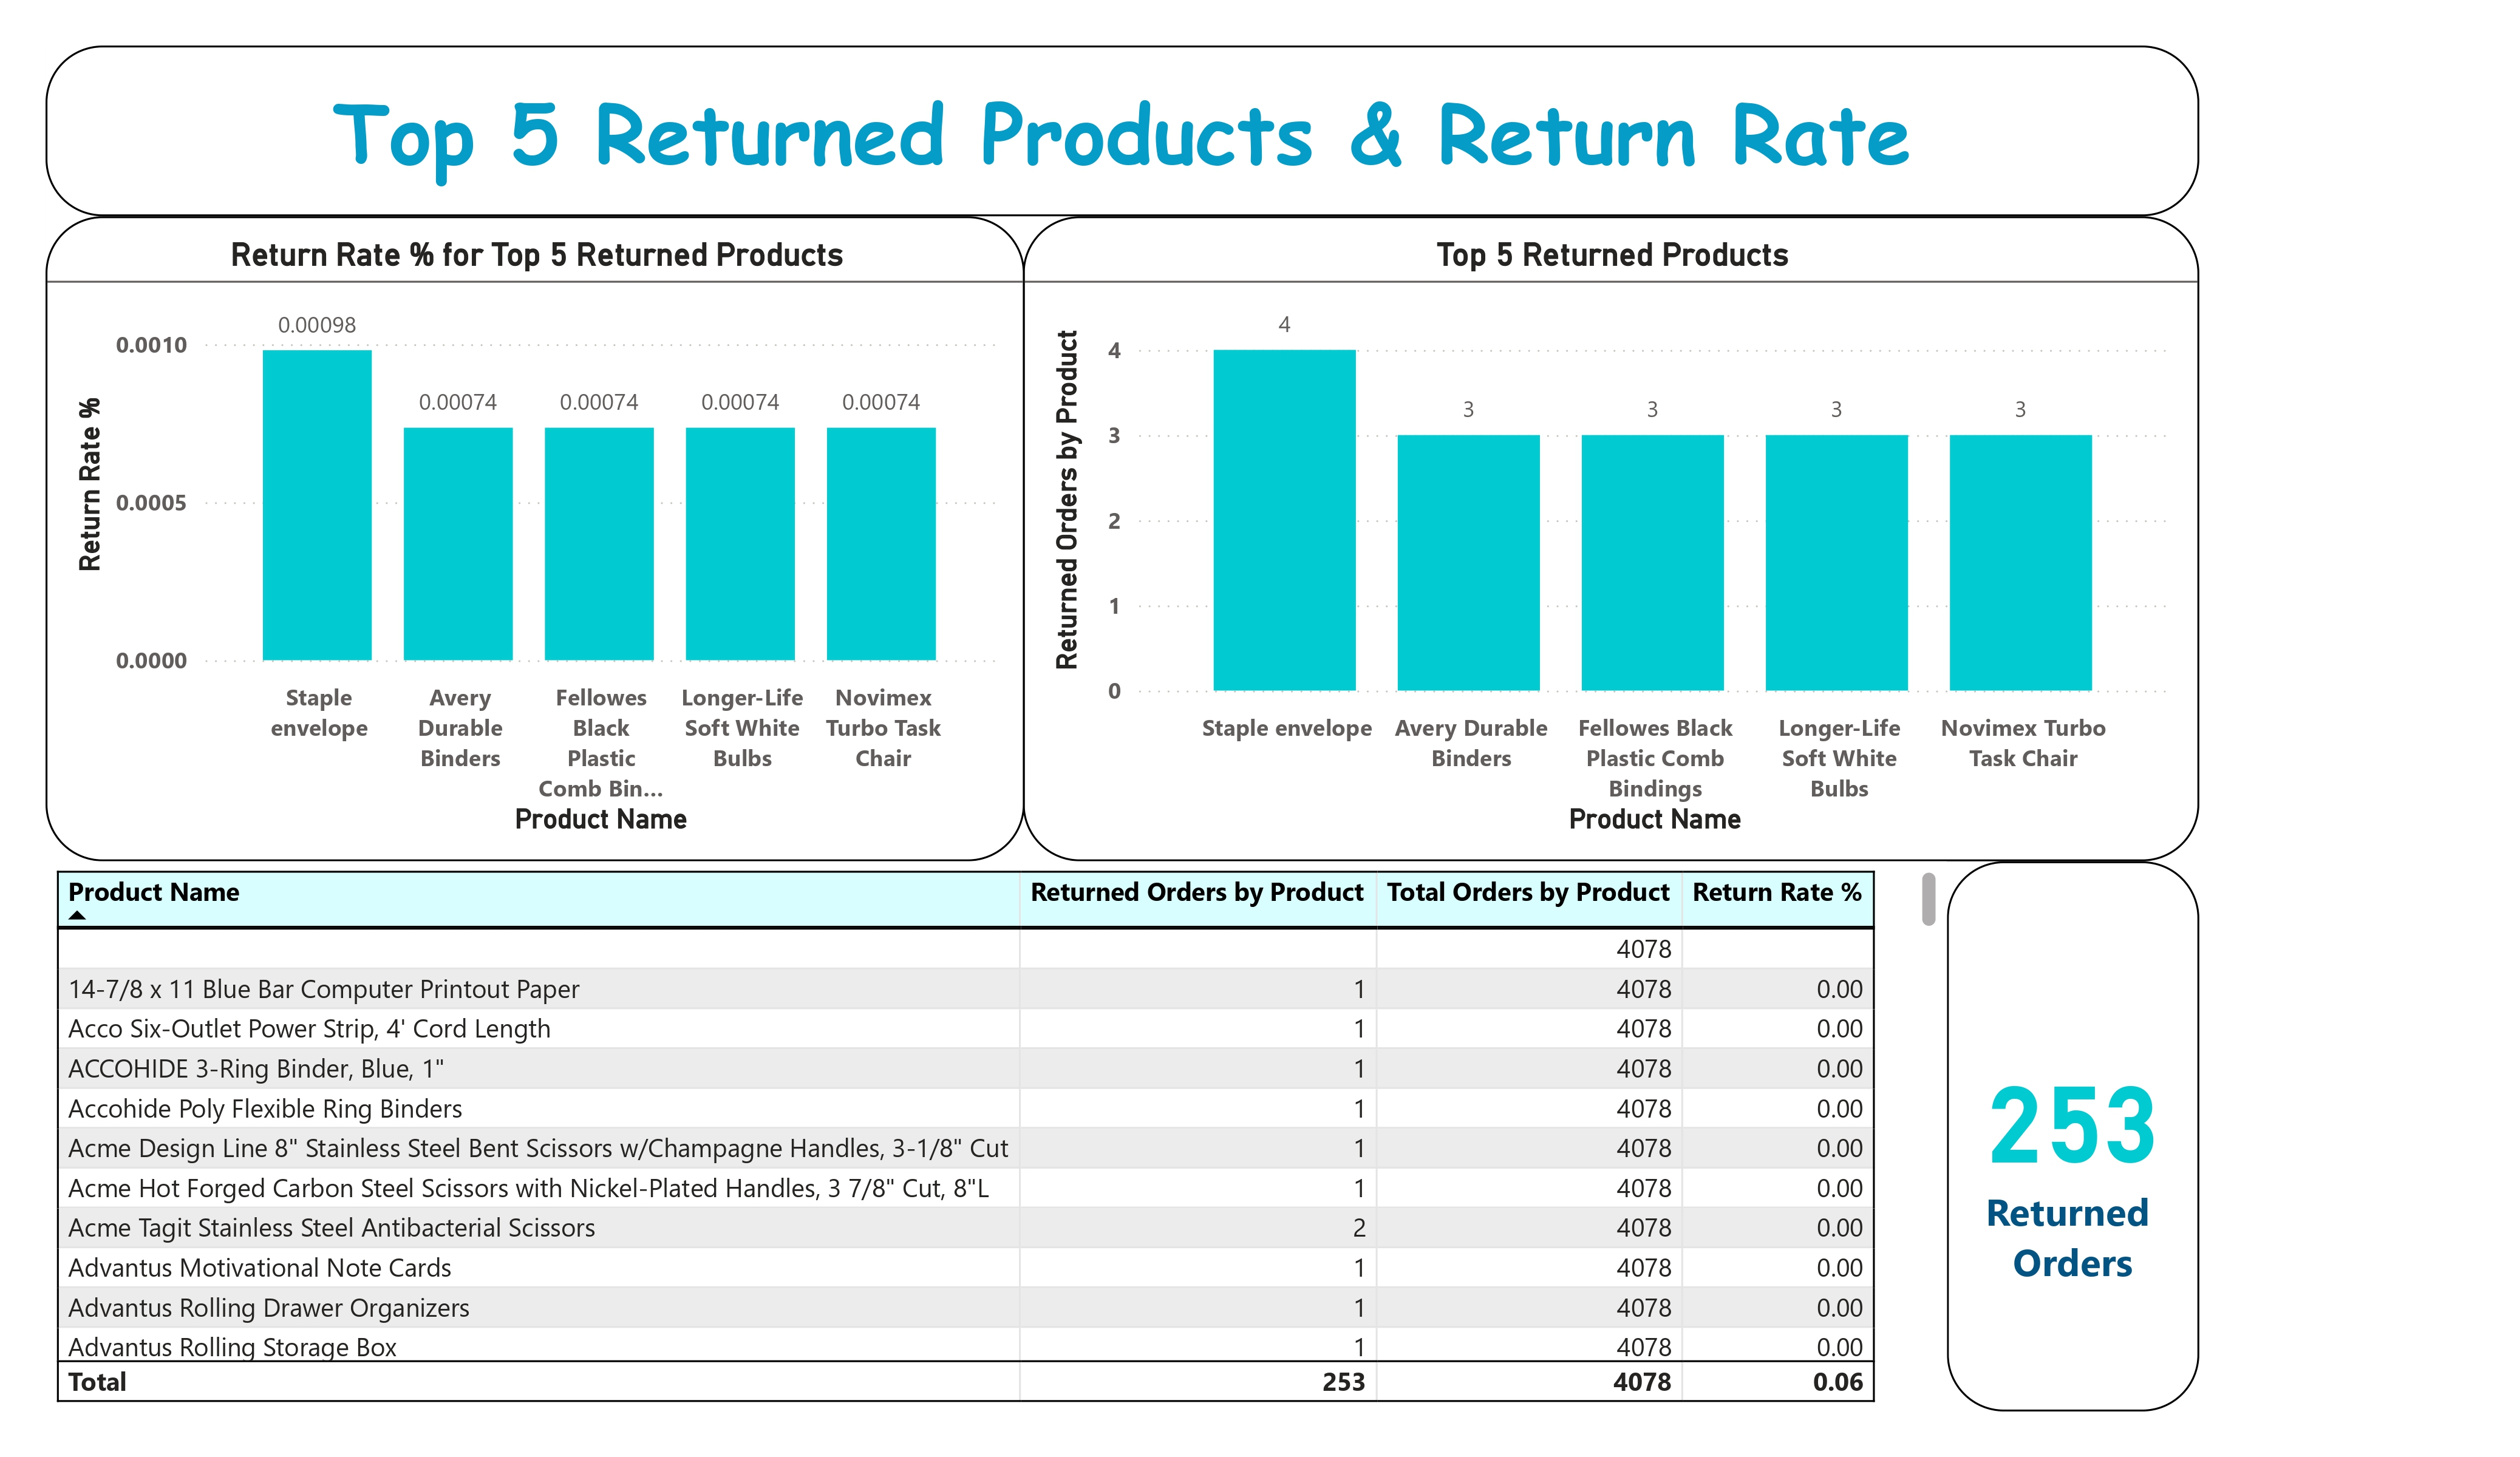

What the dashboard file says about the page in this screenshot:
{"tool":"powerbi","page":{"name":"Top 5 Returned Products & Return Rate","canvas":[1280,720],"ordinal":3},"visuals":[{"type":"card","fields":{"Values":["returns_new.Returned Orders"]},"box":[1001.7,430,133.3,290],"z":0},{"type":"columnChart","title":"Top 5 Returned Products","fields":{"Category":["returns_new.Product Name"],"Y":["returns_new.Returned Orders by Product"]},"box":[515,90,620,340],"z":1000},{"type":"clusteredColumnChart","title":"Return Rate % for Top 5 Returned Products","fields":{"Y":["returns_new.Return Rate %"],"Category":["returns_new.Product Name"]},"box":[0,90,515.7,340],"z":2000},{"type":"tableEx","fields":{"Values":["returns_new.Product Name","returns_new.Returned Orders by Product","returns_new.Total Orders by Product","returns_new.Return Rate %"]},"box":[0,430,1001.7,290],"z":3000},{"type":"textbox","box":[0,0,1135,90],"z":4000}]}

Visuals, with their boxes on the page's 1280x720 design canvas (x1, y1, x2, y2). These are canvas units, not pixel positions in the 2520x1457 screenshot, which may show the page scaled, cropped or inside an application window:
card - returns_new.Returned Orders: 1002, 430, 1135, 720
"Top 5 Returned Products" columnChart: 515, 90, 1135, 430
"Return Rate % for Top 5 Returned Products" clusteredColumnChart: 0, 90, 516, 430
tableEx - returns_new.Product Name x returns_new.Returned Orders by Product: 0, 430, 1002, 720
textbox: 0, 0, 1135, 90
